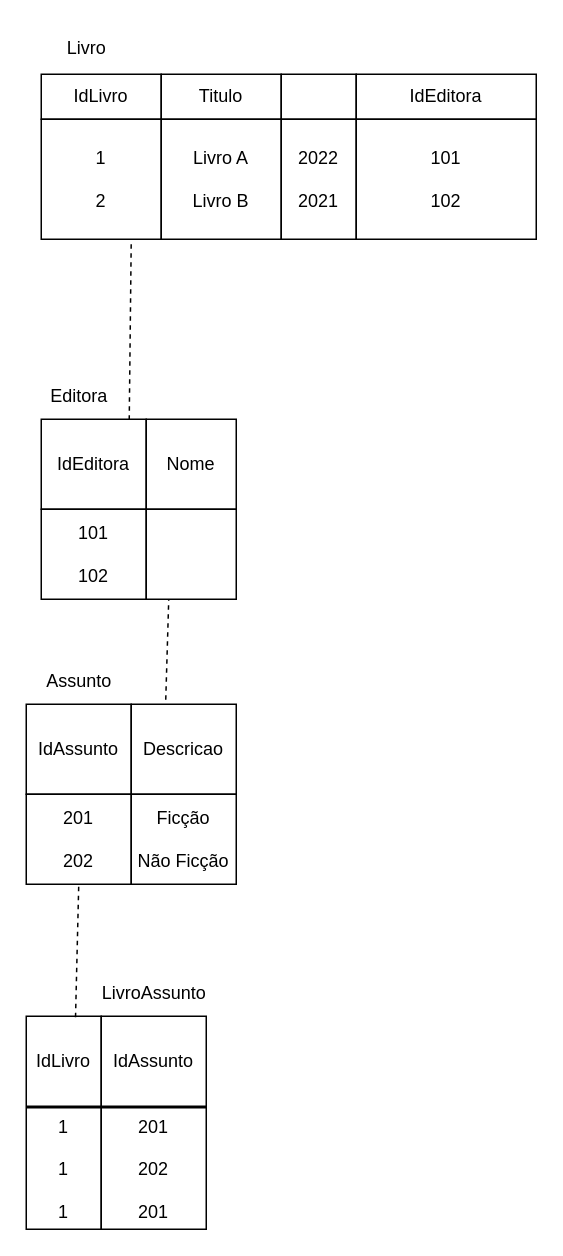
Image size: 563x1256. Some labels were removed from this diagram. Each missing label, with the centre of its shape:
Ano: point (318, 96)
Editora X Editora Y: point (190, 553)
